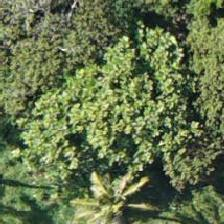coconut_tree: (67, 158, 157, 223)
